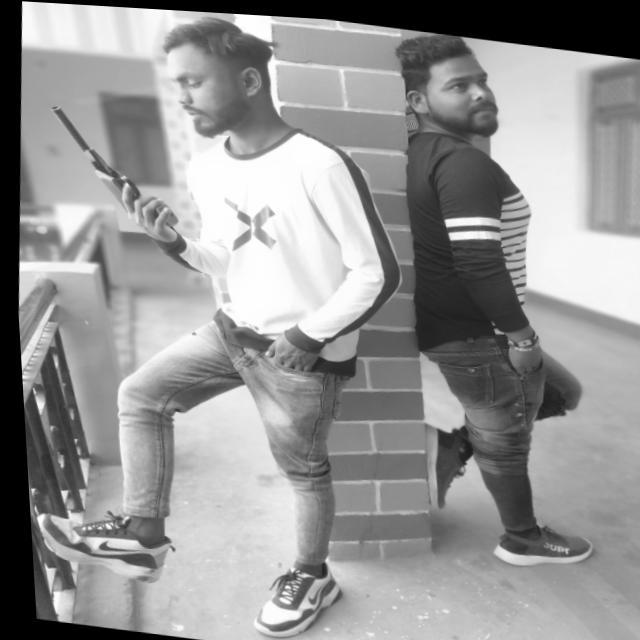weapon: (37, 99, 192, 234)
